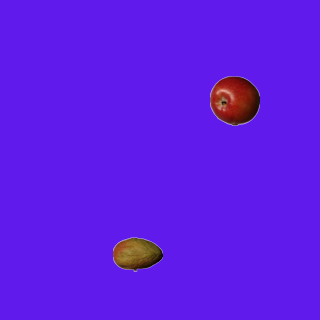Apple Braeburn: (209, 75, 259, 125)
Papaya: (112, 229, 162, 279)
